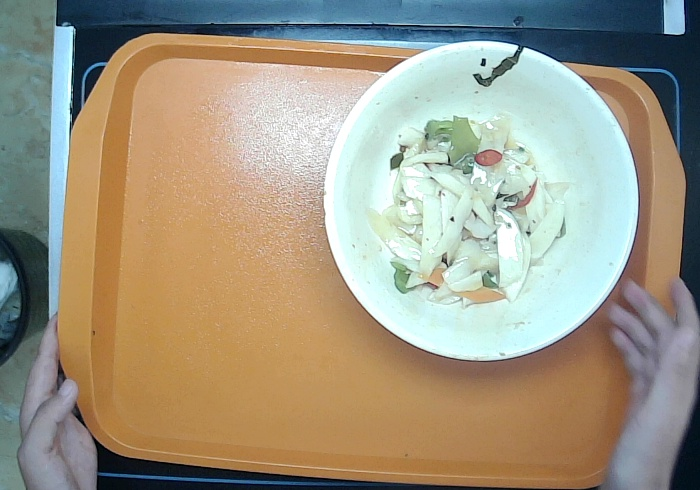ZNLD-Da_Tang_Wan: (314, 33, 643, 367)
